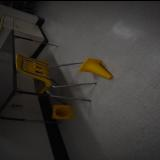cone: (78, 56, 114, 78), (52, 103, 74, 119)
